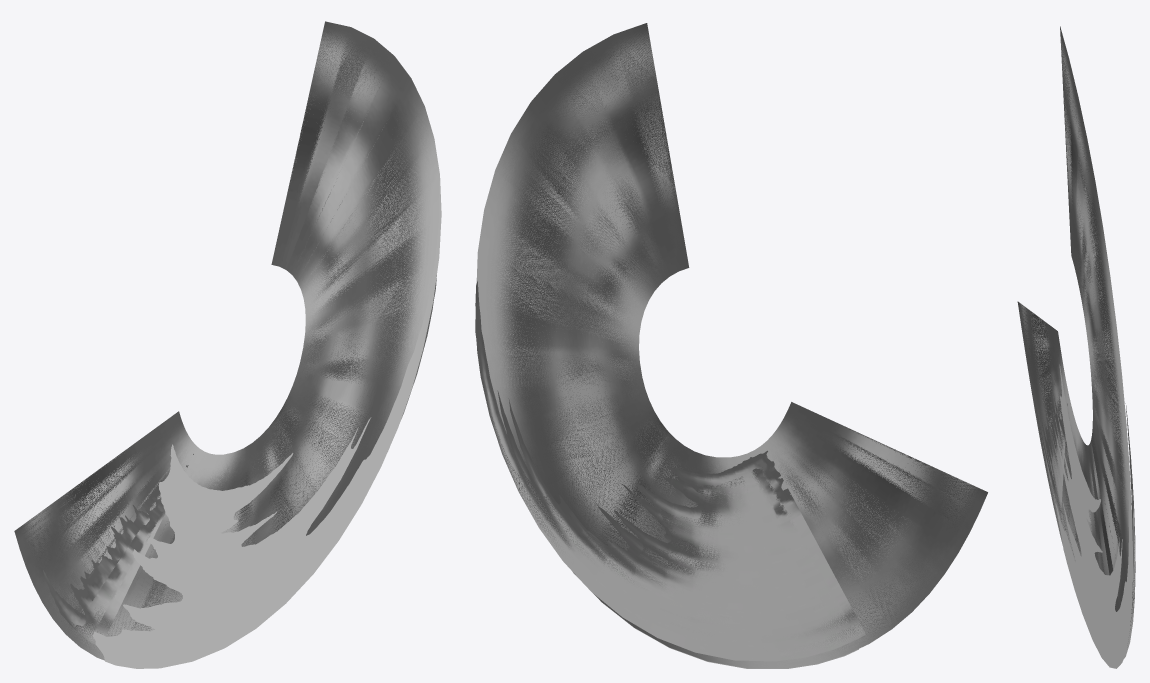
The model's file is fx_cookie0015_front_skill01.fbx.
3 renders of one model, left to right at view 1: azimuth 30°, elevation 25°; view 2: azimuth 150°, elevation 25°; view 3: azimuth 270°, elevation 25°, orthographic. The views are drawn at different scales.
Visible parts, largest first — view 1: L_scratch2 (1), L_scratch2, L_scratch; view 2: L_scratch2 (1), L_scratch; view 3: L_scratch2 (1), L_scratch2, L_scratch.
Part boxes in pixels (<box>): L_scratch2 (1): <box>14,21,441,660</box>; L_scratch2: <box>92,180,441,668</box>; L_scratch: <box>43,275,436,644</box>; L_scratch2 (1): <box>476,23,987,668</box>; L_scratch: <box>475,281,865,661</box>; L_scratch2 (1): <box>1017,26,1132,629</box>; L_scratch2: <box>1056,332,1132,668</box>; L_scratch: <box>1031,379,1135,658</box>.
Bounding box in the file's own units: 403 × 509 × 79.28.
